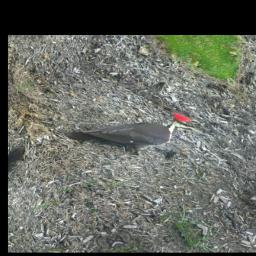Woodpecker: (61, 95, 212, 174)
